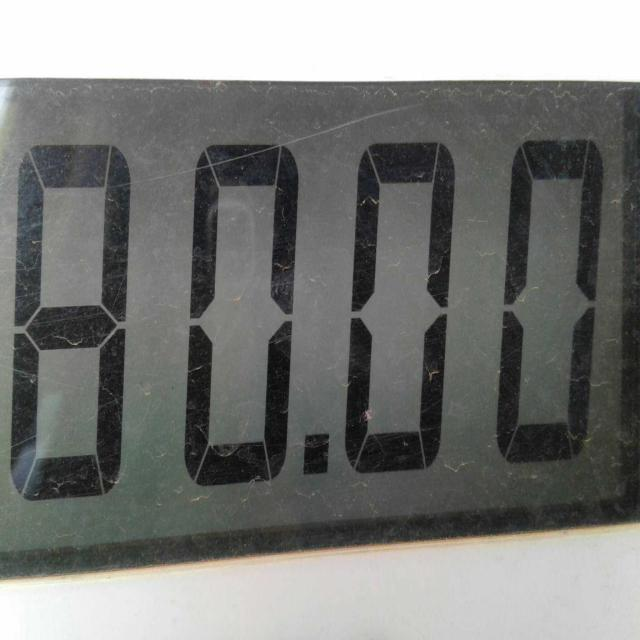.: (302, 426, 334, 481)
0: (192, 142, 297, 487), (496, 139, 604, 455), (351, 142, 450, 475)
8: (16, 143, 122, 499)
screen: (0, 76, 640, 557)
